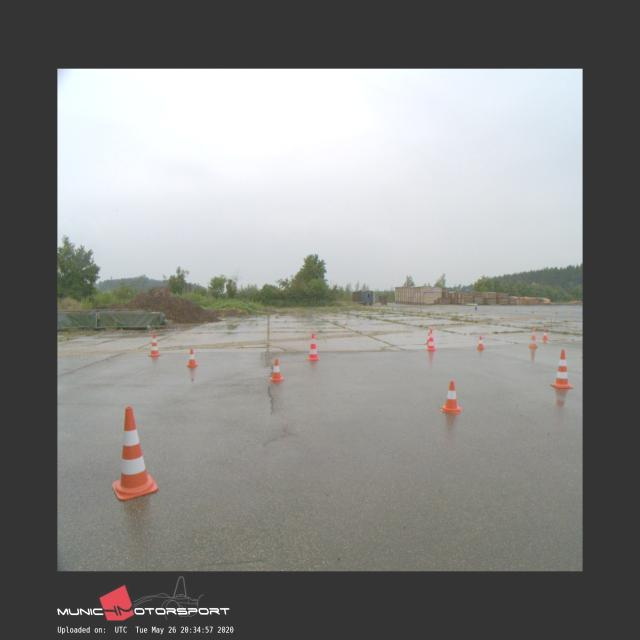large_orange_cone: (111, 406, 158, 498), (550, 350, 572, 388), (148, 332, 161, 356), (307, 334, 319, 359), (528, 327, 538, 347), (427, 328, 436, 350)
orange_cone: (440, 380, 462, 412), (270, 358, 284, 382), (187, 349, 197, 367), (542, 328, 548, 339), (478, 336, 483, 349), (426, 332, 430, 344)
